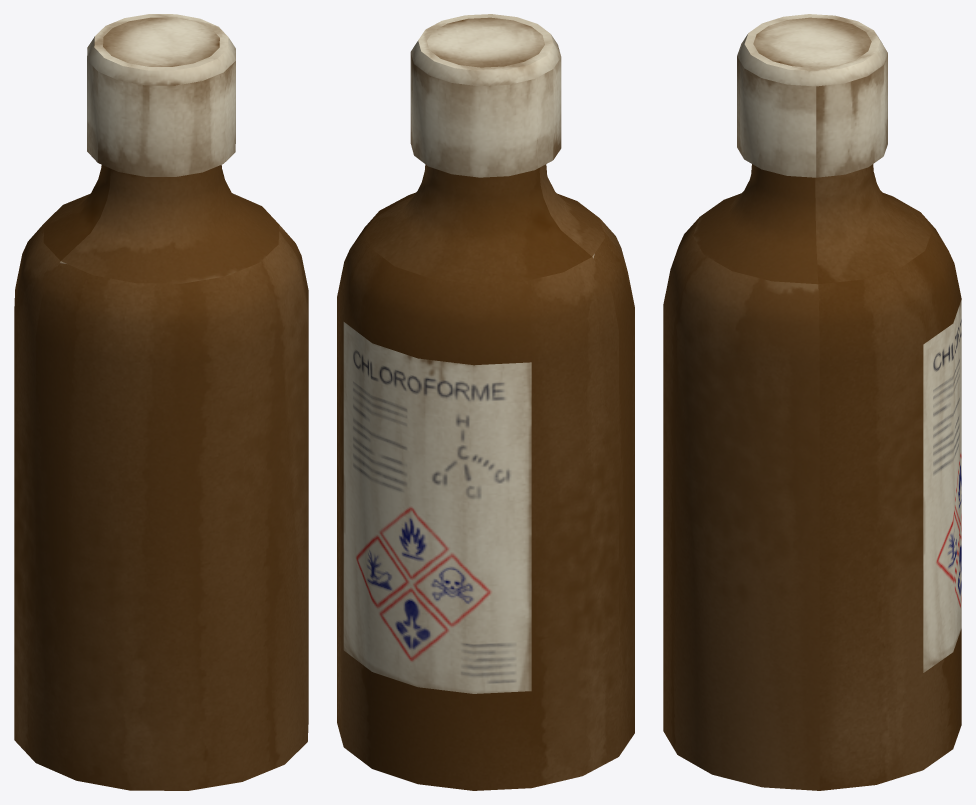
The model's file is bouteille4.fbx.
The picture shows the model from 3 angles, left to right: view 1: azimuth 30°, elevation 25°; view 2: azimuth 150°, elevation 25°; view 3: azimuth 270°, elevation 25°; orthographic projection.
Visible parts, largest first — view 1: TAG_bouteille4.001; view 2: TAG_bouteille4.001; view 3: TAG_bouteille4.001.
Part boxes in pixels (left/top/right/bottom): TAG_bouteille4.001: left=14, top=14, right=308, bottom=790; TAG_bouteille4.001: left=337, top=14, right=634, bottom=790; TAG_bouteille4.001: left=663, top=14, right=961, bottom=790.
Bounding box in the file's own units: 0.1383 × 0.1383 × 0.3503.
